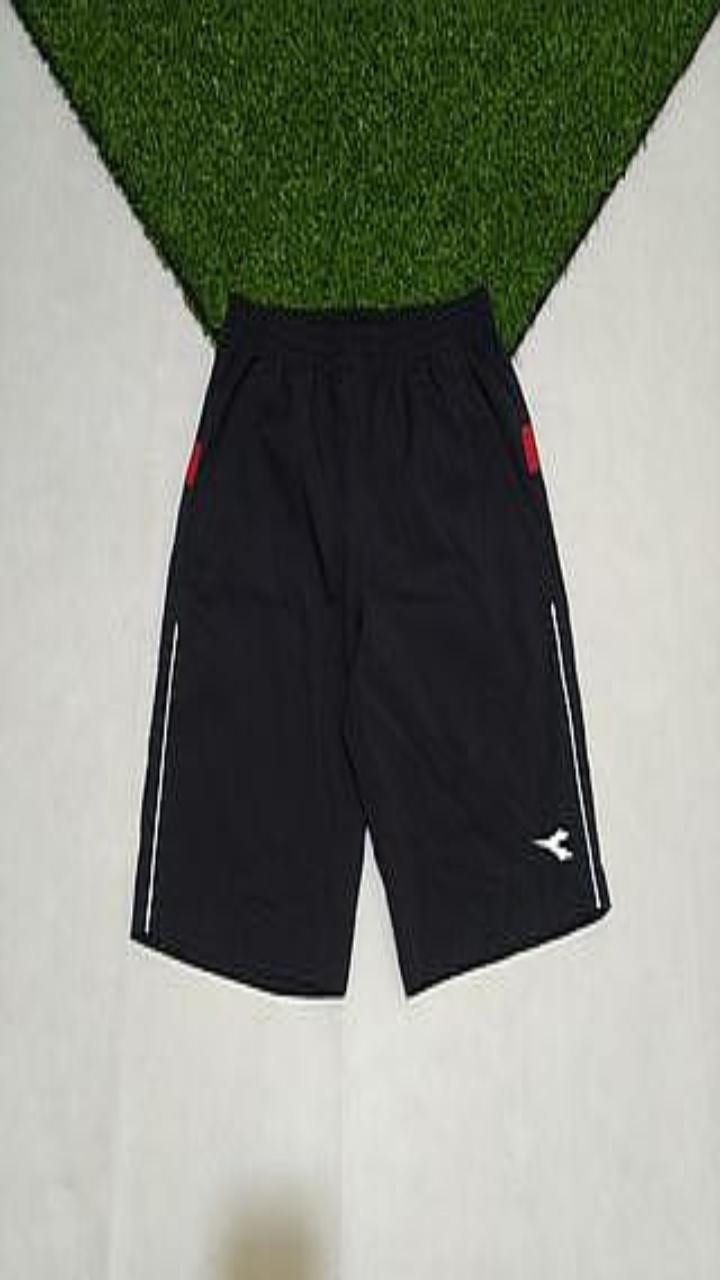Shorts: (131, 287, 609, 995)
